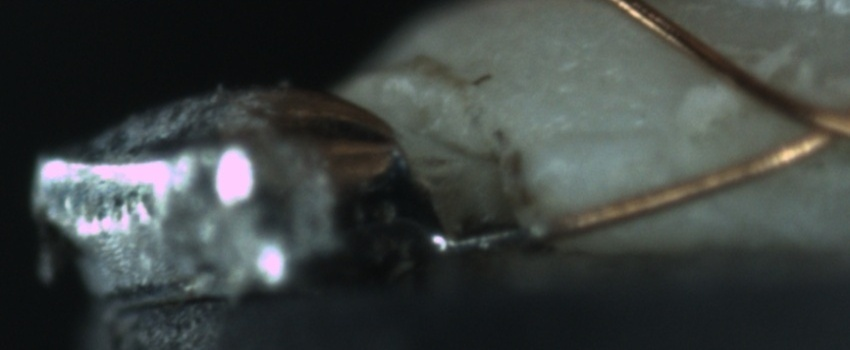CL: (770, 86, 843, 164)
DL: (545, 106, 678, 168)
TS: (446, 223, 542, 252)
